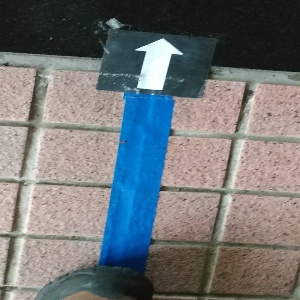straight: (96, 30, 219, 97)
